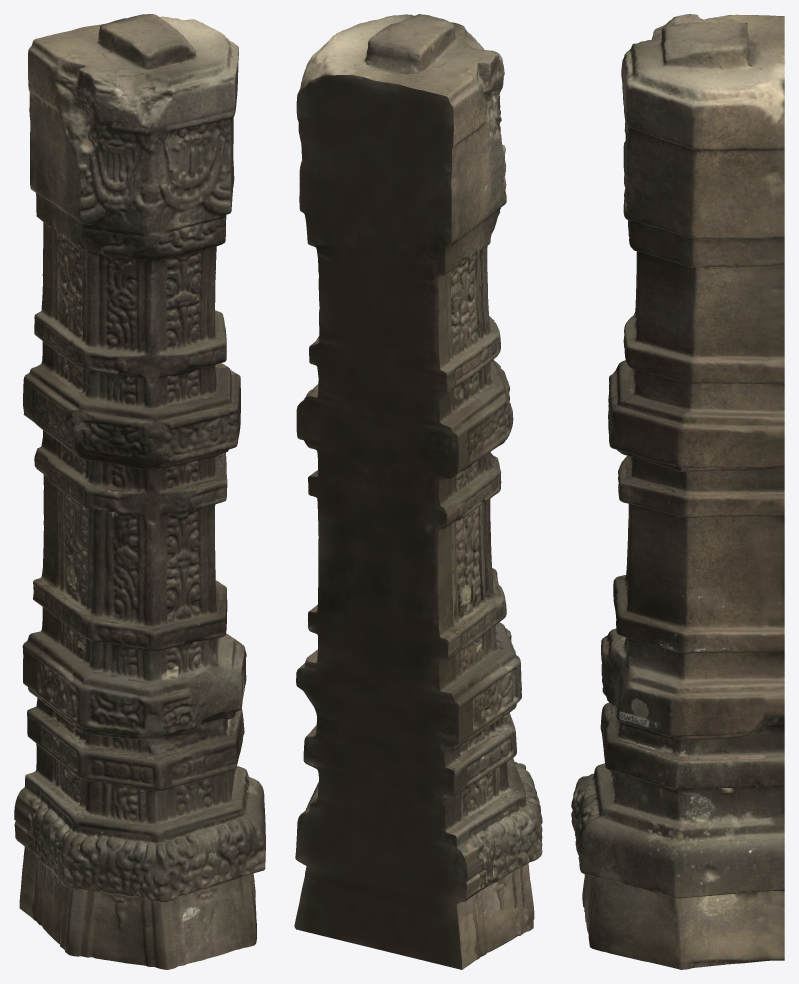
The model's file is MysonMuseum_trucuaF1_final.glb.
The picture shows the model from 3 angles, left to right: view 1: azimuth 30°, elevation 25°; view 2: azimuth 150°, elevation 25°; view 3: azimuth 270°, elevation 25°; orthographic projection.
Bounding box in the file's own units: 0.4897 × 1.98 × 0.4304.
Materials: 1 (1 with a texture image).
